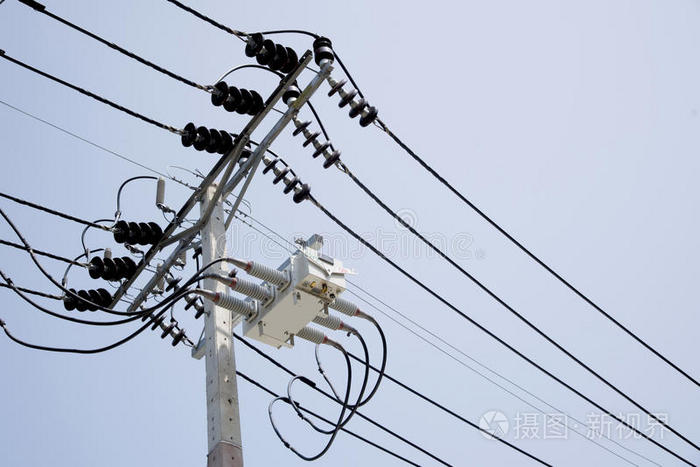insulator: (329, 78, 379, 128), (263, 155, 311, 204), (292, 120, 341, 165), (243, 32, 299, 70), (164, 276, 207, 319), (180, 122, 231, 156), (209, 79, 259, 112), (140, 305, 181, 345), (86, 255, 139, 283), (64, 286, 113, 314), (113, 219, 158, 248)
